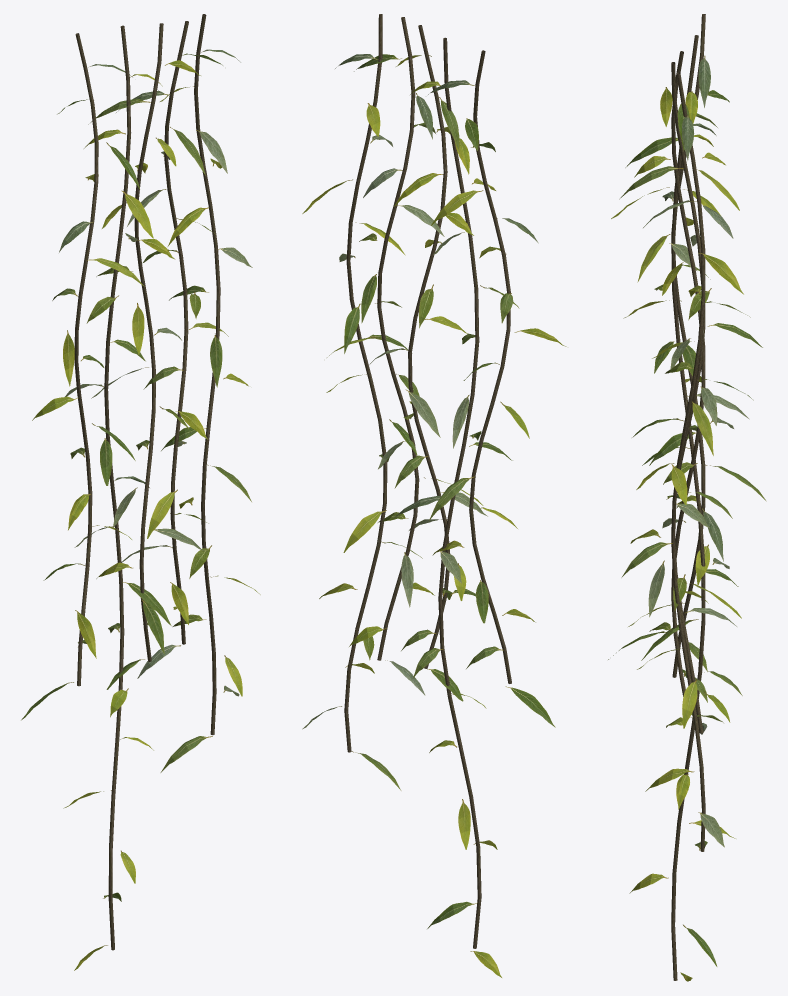
The model's file is vine_01.glb.
The picture shows the model from 3 angles, left to right: view 1: azimuth 30°, elevation 25°; view 2: azimuth 150°, elevation 25°; view 3: azimuth 270°, elevation 25°; orthographic projection. The views are drawn at different scales.
Visible parts, largest first — view 1: vine_01; view 2: vine_01; view 3: vine_01.
Part boxes in pixels (x1=…): vine_01: x1=21, y1=14, x2=260, y2=970; vine_01: x1=302, y1=14, x2=566, y2=977; vine_01: x1=608, y1=14, x2=766, y2=981.
Size of the model in its own units: 1.73 by 6.28 by 0.9964.
2 materials, 2 textured.
